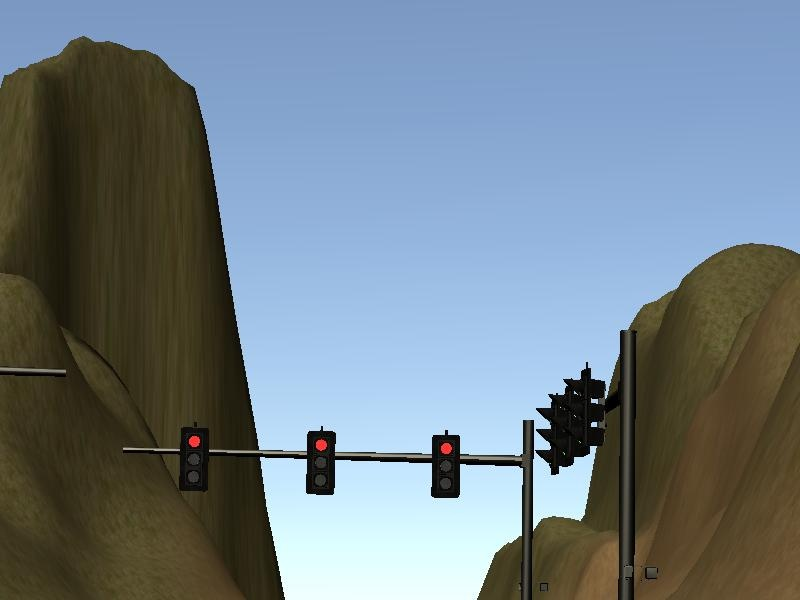RED: (431, 435, 462, 499), (306, 430, 337, 494), (178, 425, 209, 489)
